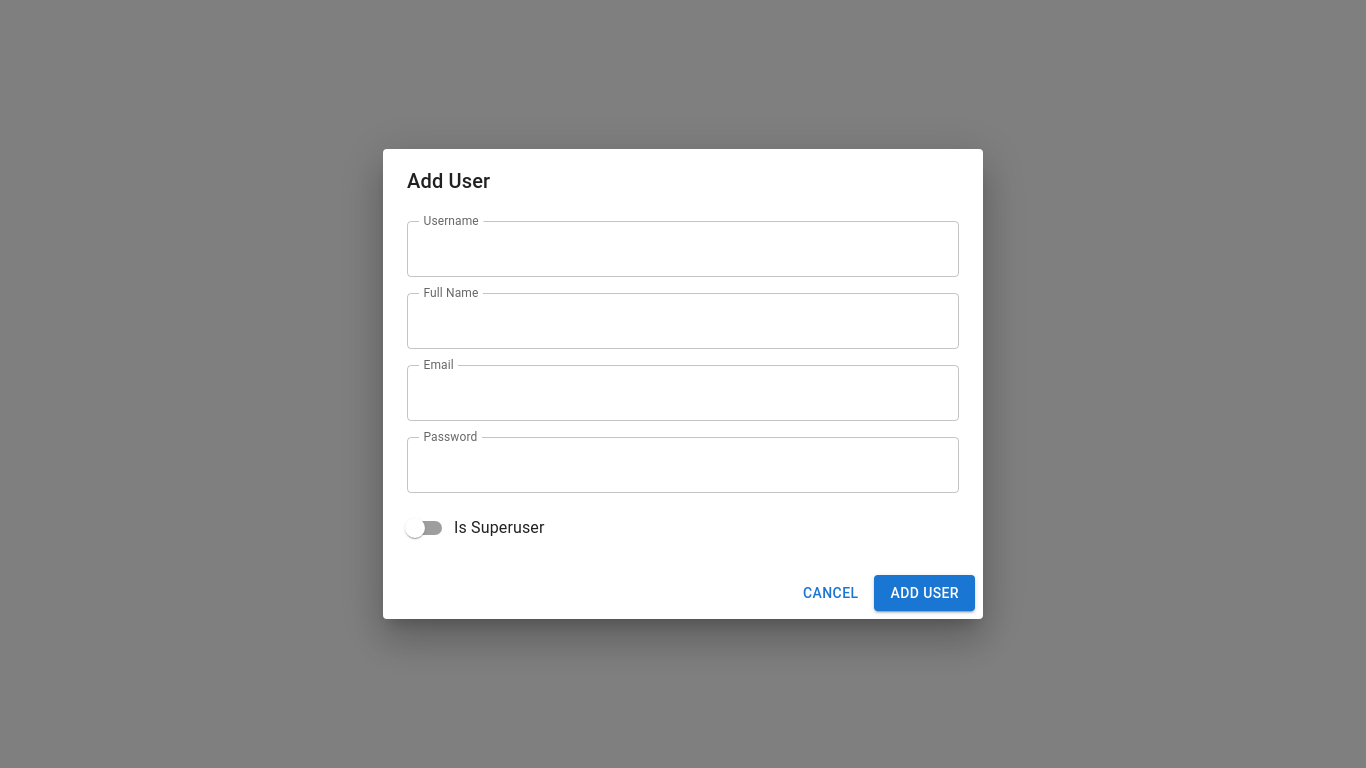
Test: UserDialog — add mode › shows error when password is empty
Type "newuser" into the field labelled "Username". click: (683, 249)
box: [407,221,959,277]
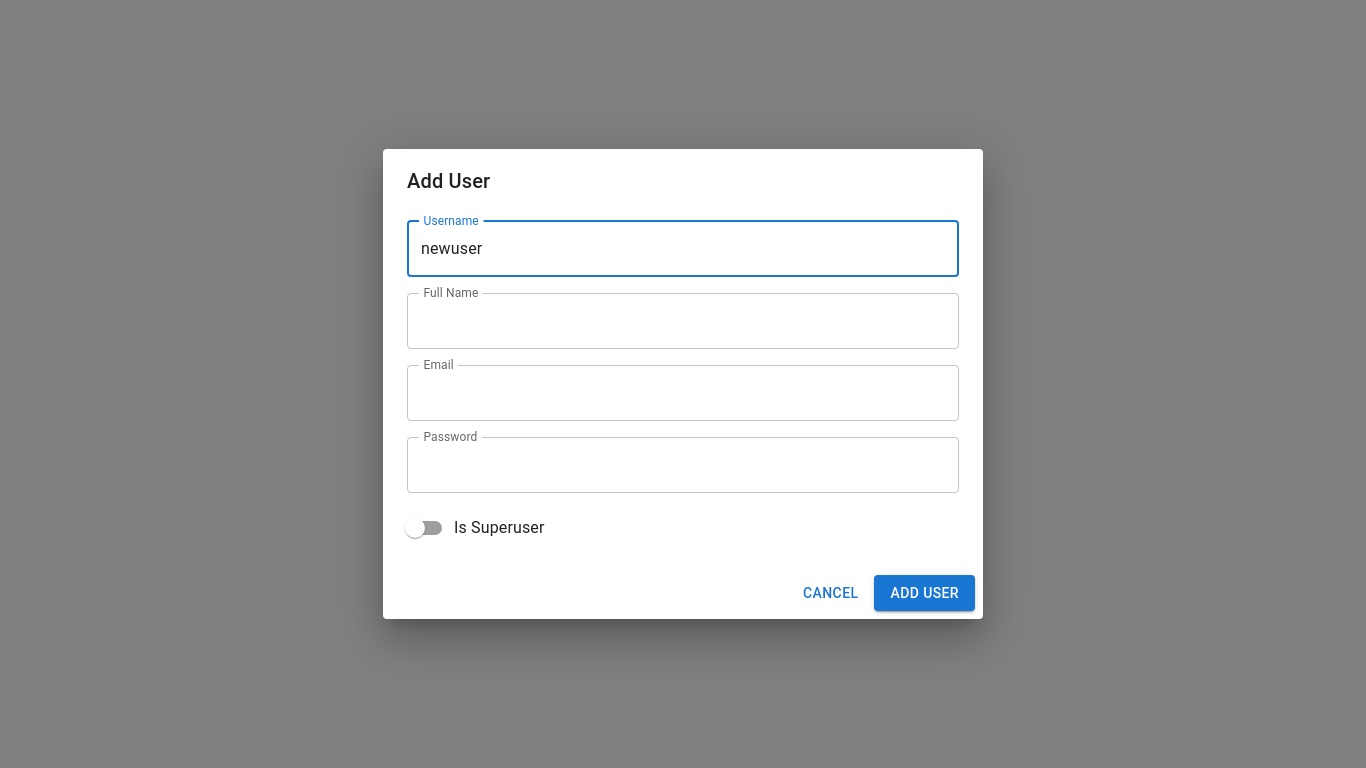
Click the button "Add User". click: (925, 593)
box: [874,575,975,611]
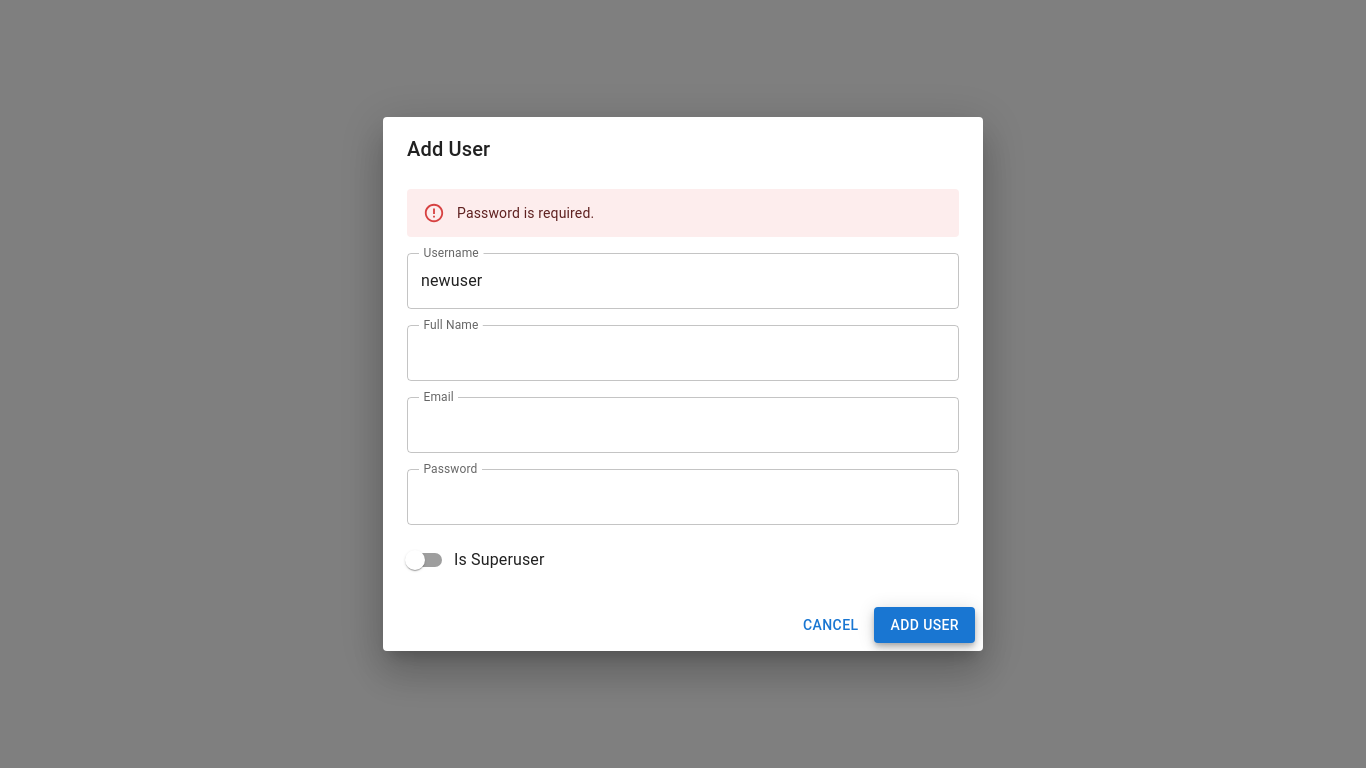
Check: the message shows "Password is required", box [457,205,594,221]
